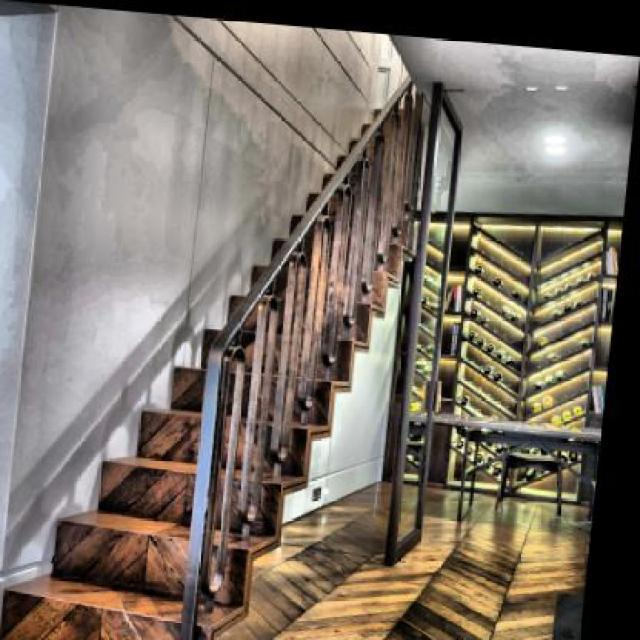stair: (11, 348, 217, 638)
